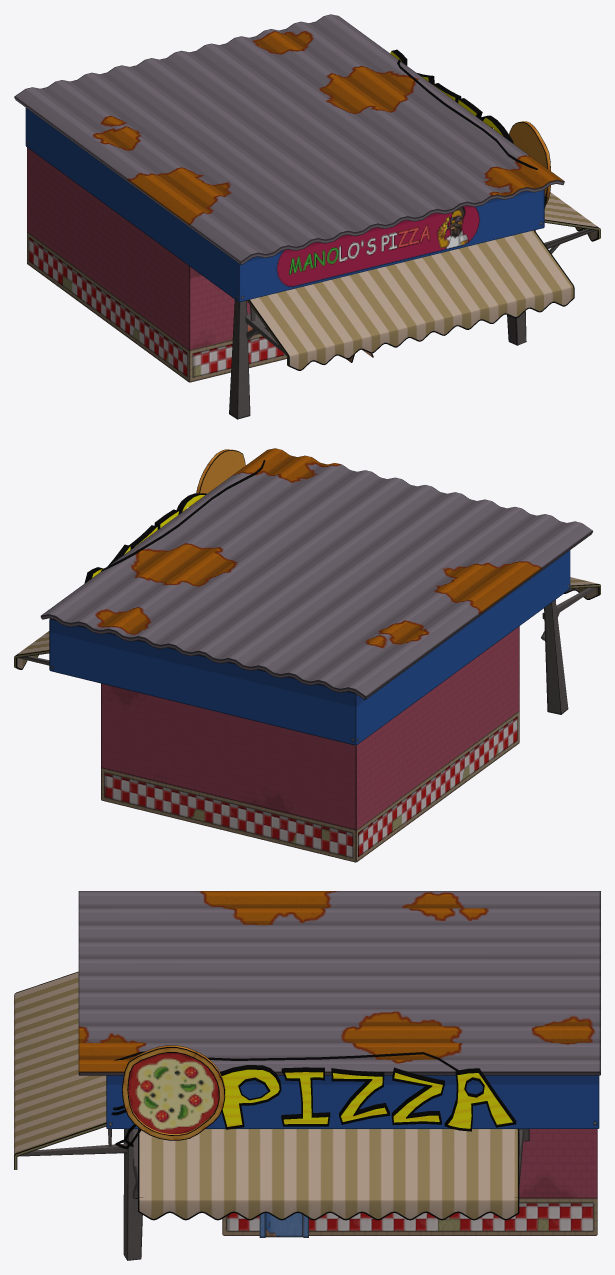
The model's file is Building_Pizzeria (2).fbx.
The picture shows the model from 3 angles, top to bottom: view 1: azimuth 30°, elevation 25°; view 2: azimuth 150°, elevation 25°; view 3: azimuth 270°, elevation 25°; orthographic projection. The views are drawn at different scales.
Parts seen in each view (by area): view 1: Plane.005; view 2: Plane.005; view 3: Plane.005.
Boxes of the visible parts, bbox=[...] form: Plane.005: bbox=[14, 14, 600, 419]; Plane.005: bbox=[14, 448, 600, 862]; Plane.005: bbox=[14, 891, 600, 1260].
Bounding box in the file's own units: 13.6 × 6.63 × 15.49.
